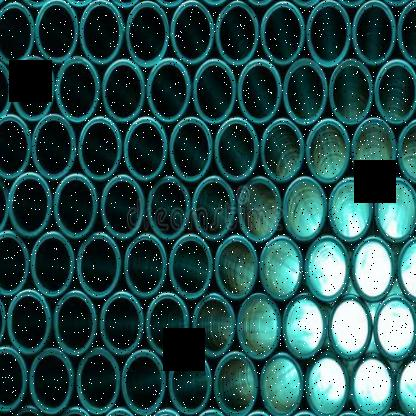pipe: (121, 349, 165, 416), (304, 352, 350, 416), (146, 58, 191, 123), (282, 59, 327, 124), (282, 295, 327, 360), (213, 351, 258, 416), (352, 118, 396, 184), (54, 174, 98, 240), (306, 236, 350, 302), (352, 237, 396, 303), (306, 1, 350, 67), (76, 348, 120, 414), (56, 56, 99, 123), (237, 59, 282, 123), (329, 59, 373, 124), (8, 173, 52, 238), (31, 232, 75, 297), (77, 233, 121, 298), (260, 236, 304, 301), (328, 295, 372, 360), (352, 0, 396, 65), (29, 349, 73, 414), (237, 294, 280, 360), (373, 295, 416, 361), (126, 1, 169, 67), (306, 119, 351, 182), (78, 116, 122, 180), (214, 117, 258, 181), (282, 176, 326, 240), (7, 290, 51, 354), (261, 1, 305, 65), (350, 352, 394, 416), (193, 59, 236, 124), (32, 114, 75, 179), (261, 118, 304, 183), (192, 176, 235, 241), (54, 291, 97, 356), (329, 178, 373, 241), (260, 353, 304, 416), (124, 117, 167, 181), (169, 235, 212, 299), (34, 0, 77, 64), (80, 0, 123, 64), (171, 0, 214, 64), (374, 58, 416, 123), (170, 117, 212, 182), (102, 174, 144, 239), (124, 234, 166, 299), (214, 237, 258, 299), (100, 293, 144, 355), (13, 57, 56, 120), (375, 177, 416, 243), (146, 293, 188, 357), (216, 1, 258, 65), (170, 351, 212, 415), (192, 295, 235, 357), (102, 59, 144, 122), (148, 177, 190, 239), (0, 1, 34, 65), (0, 114, 31, 179), (0, 346, 28, 412), (0, 232, 29, 295), (396, 234, 416, 304), (396, 0, 416, 66), (395, 354, 416, 416), (397, 117, 416, 183)
